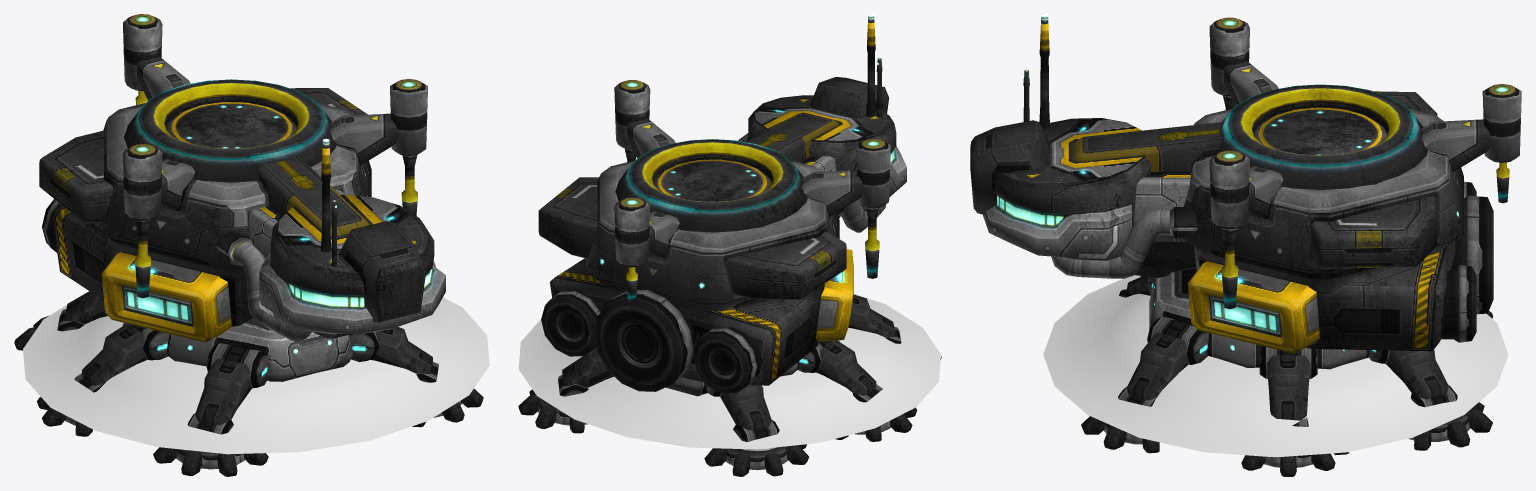
Rendered from Starport_Umojan.glb.
3 views of the same model, side by side, from view 1: azimuth 30°, elevation 25°; view 2: azimuth 150°, elevation 25°; view 3: azimuth 270°, elevation 25° (orthographic). The views are drawn at different scales.
Visible parts, largest first — view 1: Mesh, Sphere01distortion02, Mesh.001; view 2: Mesh, Mesh.001, Sphere01distortion02; view 3: Mesh, Mesh.001, Sphere01distortion02.
Boxes of the visible parts, x1,y1,x2,y2 form: Mesh: (14, 79, 483, 476); Sphere01distortion02: (23, 293, 489, 454); Mesh.001: (42, 14, 432, 425); Mesh: (518, 14, 941, 476); Mesh.001: (541, 80, 894, 430); Sphere01distortion02: (518, 293, 940, 449); Mesh: (970, 14, 1509, 476); Mesh.001: (1051, 17, 1521, 420); Sphere01distortion02: (1043, 275, 1508, 457).
Size of the model in its own units: 4.48 by 3.47 by 5.08.
Materials: 3 (2 with a texture image).
